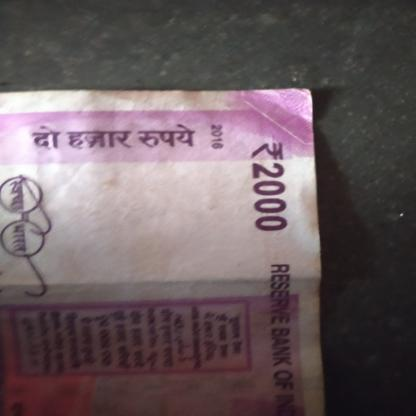New2000Back: (0, 90, 318, 415)
